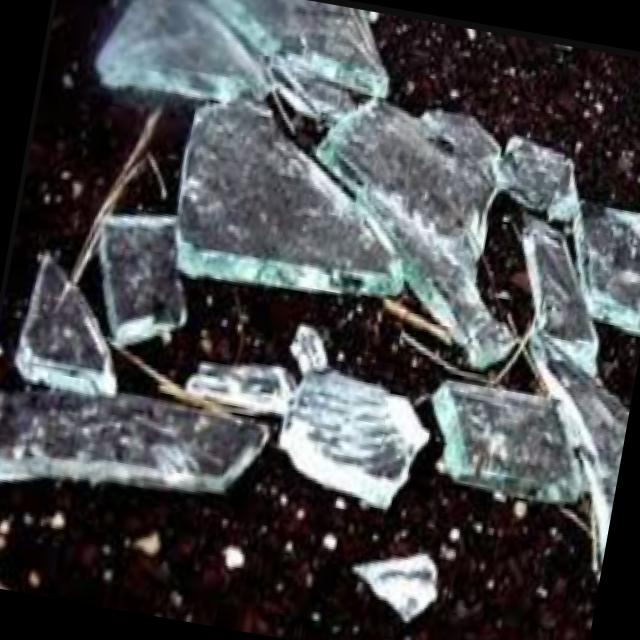PecahanKaca: (0, 0, 640, 640), (168, 301, 446, 517)
